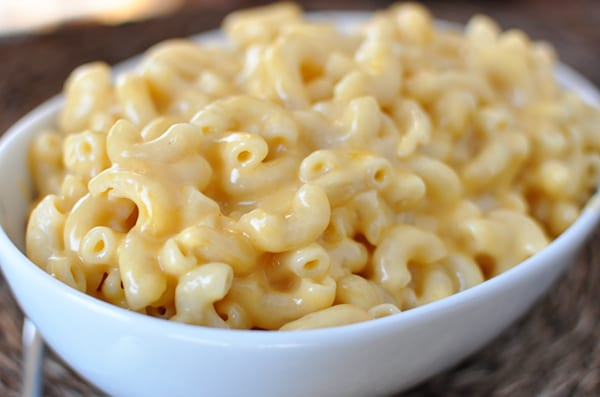macncheese: (23, 43, 581, 387)
